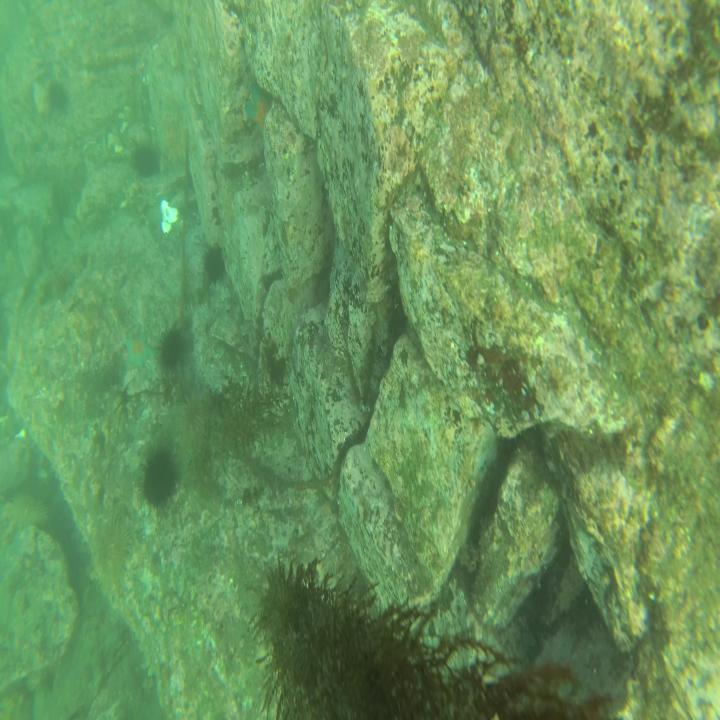echinus: (88, 515, 134, 590), (135, 440, 183, 511), (199, 242, 226, 288), (158, 324, 184, 370), (131, 143, 158, 179), (45, 78, 68, 114)
starfish: (241, 83, 274, 139), (122, 328, 156, 374)
